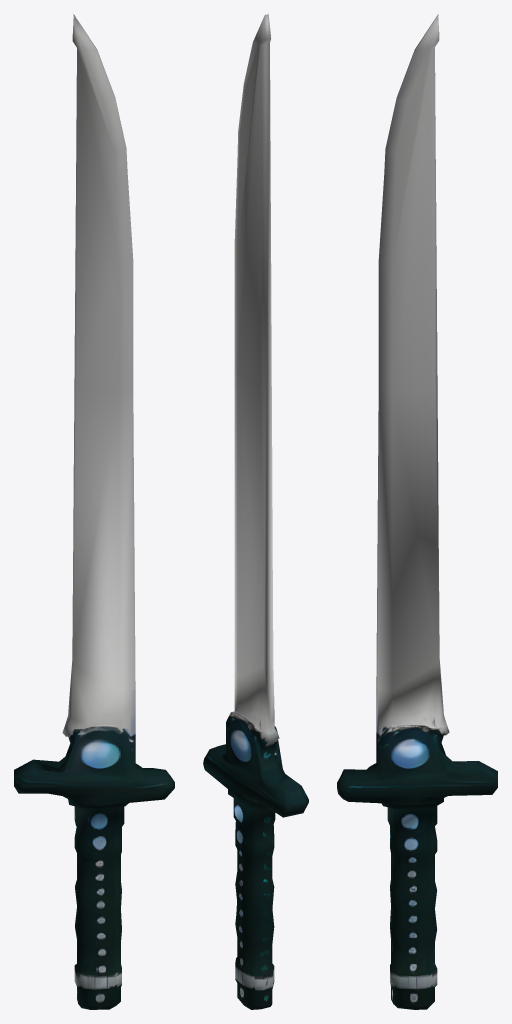
The model's file is aegis_sword.glb.
3 renders of one model, left to right at view 1: azimuth 90°, elevation 25°; view 2: azimuth 210°, elevation 25°; view 3: azimuth 270°, elevation 25°, orthographic.
Parts seen in each view (by area): view 1: aegis_sword; view 2: aegis_sword; view 3: aegis_sword.
Part boxes in pixels (left/top/right/bottom): aegis_sword: left=14, top=14, right=174, bottom=1009; aegis_sword: left=203, top=14, right=308, bottom=1009; aegis_sword: left=337, top=14, right=497, bottom=1009.
Size of the model in its own units: 0.0524 by 1.38 by 0.2024.
Materials: 1 (1 with a texture image).
